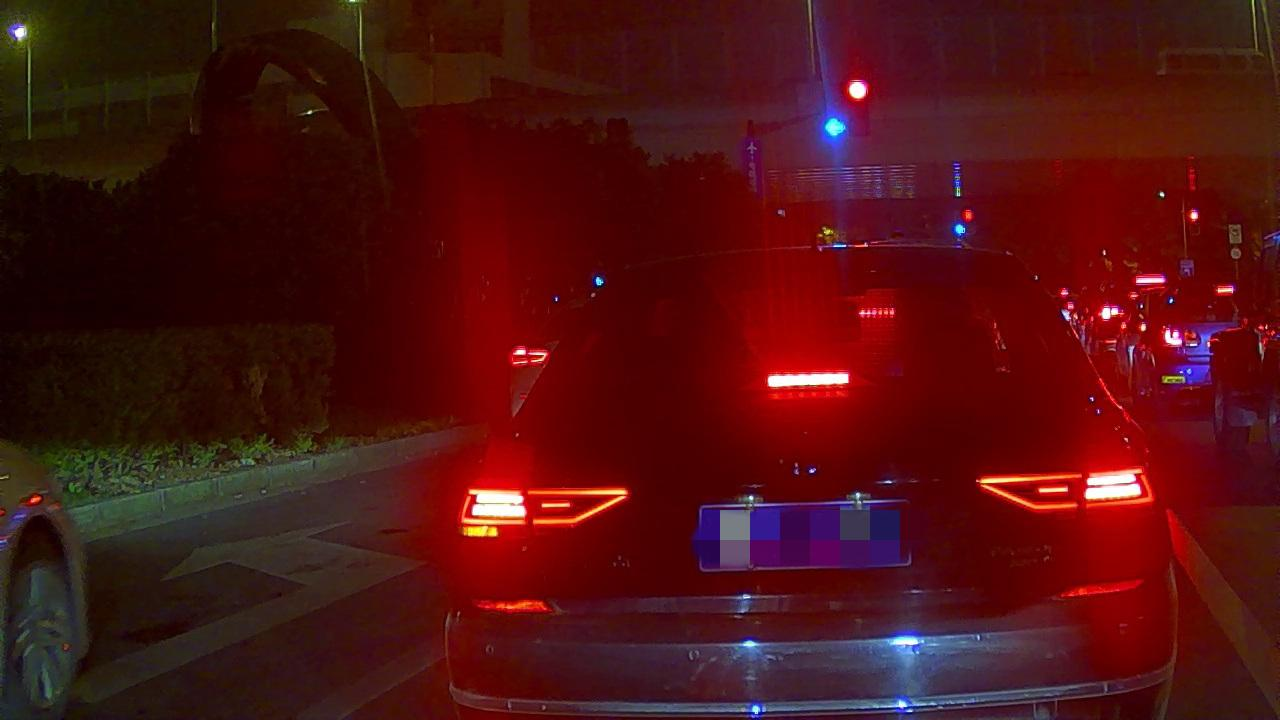traffic_light: (847, 77, 869, 134), (827, 120, 844, 133)
